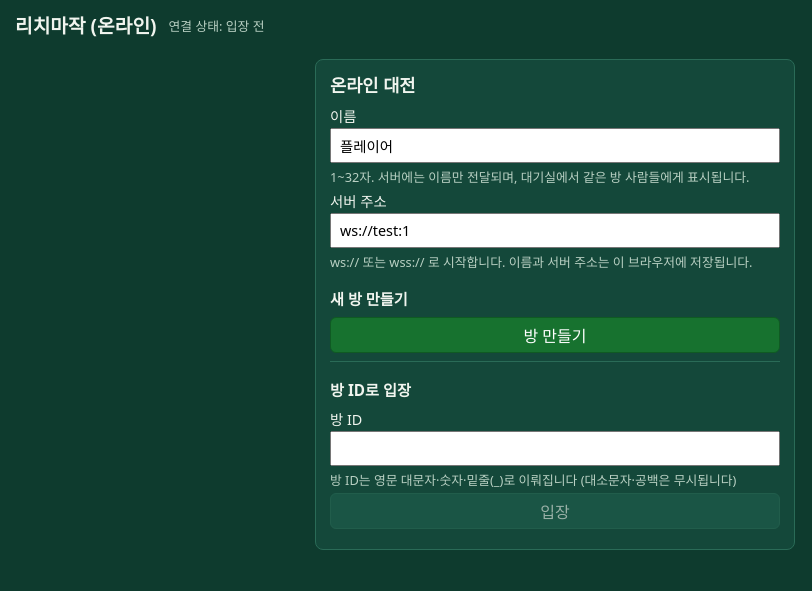
Scenario: 방 ID로 입장 › 형식이 잘못된 방 ID는 전송하지 않는다
Type "ab-cd" into the field labelled "방 ID" at (555, 448), box [330,431,780,466]
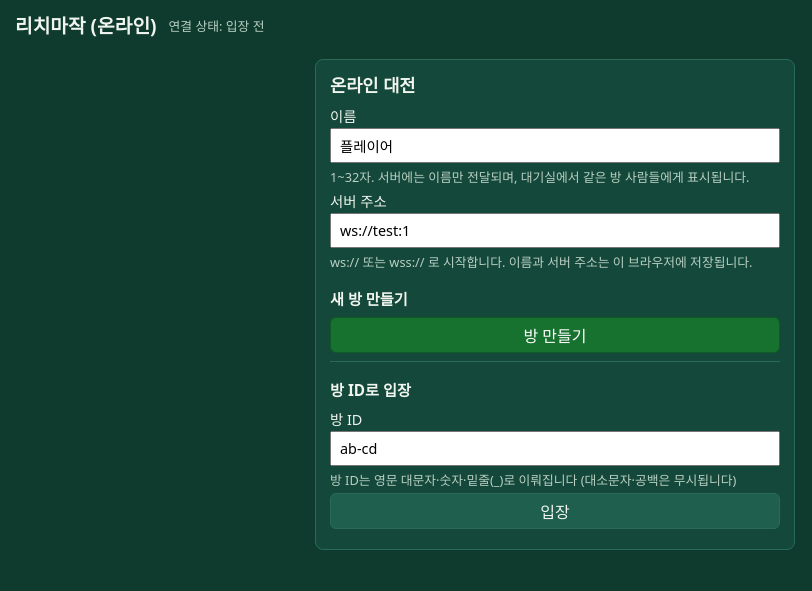
Click the button "입장" at (555, 511), box [330,493,780,529]
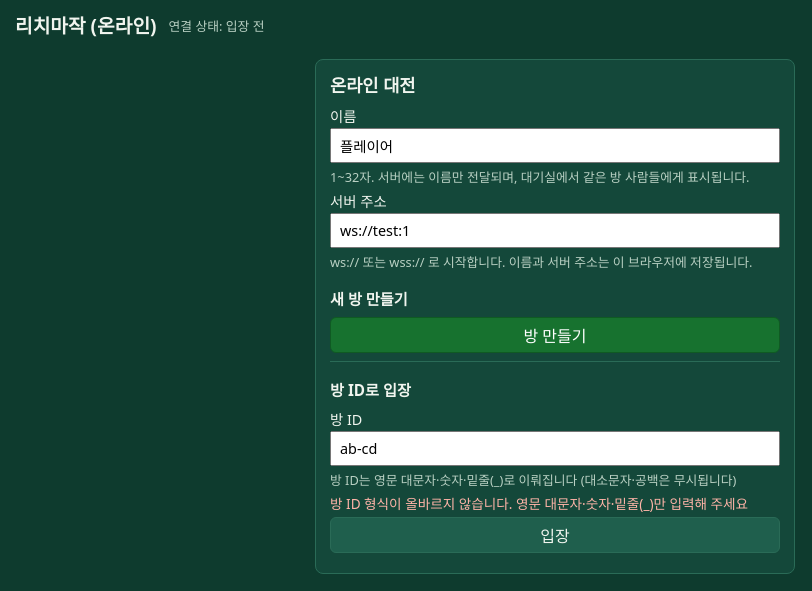
Now the text "방 ID 형식이 올바르지 않습니다. 영문 대문자·숫자·밑줄(_)만 입력해 주세요" is shown, box [330,493,780,513]
